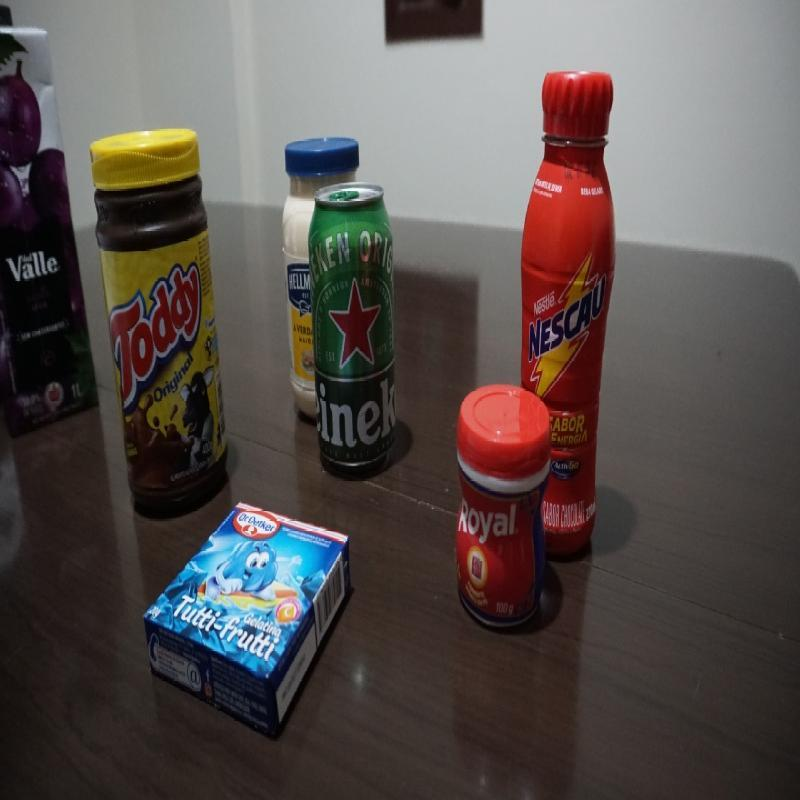Beer can: (315, 183, 403, 468)
Chocolate Milk: (522, 70, 612, 558)
Chocolate Powder: (86, 123, 237, 505)
Gelatine: (137, 497, 354, 702)
Mayonnaise: (280, 138, 355, 423)
Yeast: (453, 385, 549, 624)
